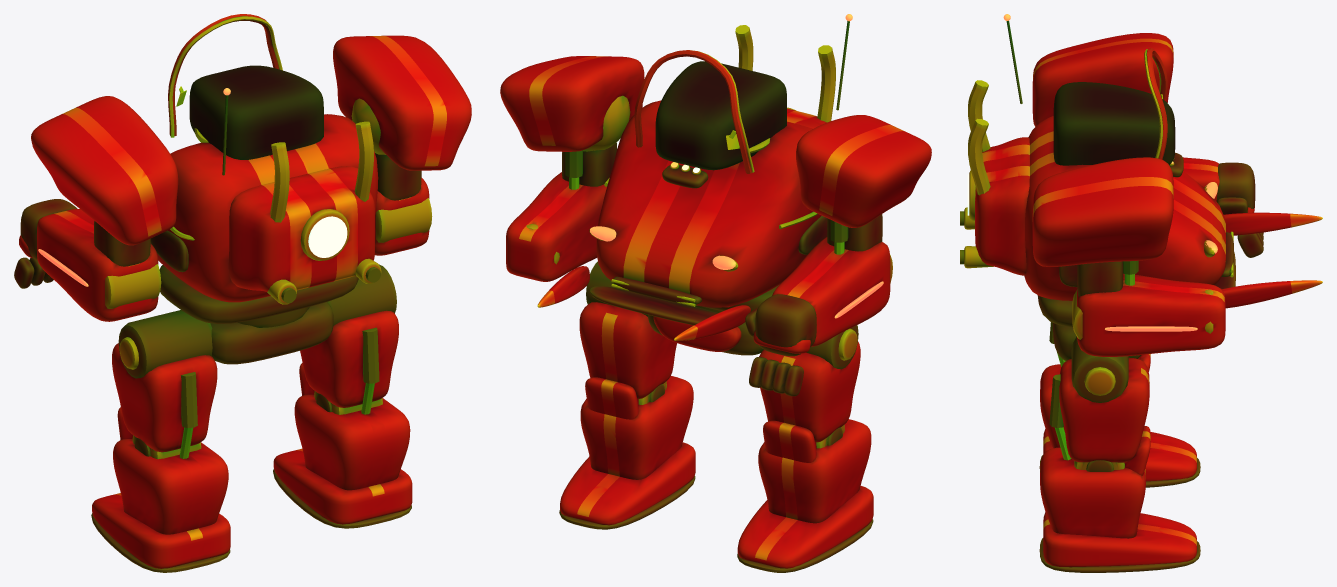
Rendered from titan_enemy.glb.
The picture shows the model from 3 angles, left to right: view 1: azimuth 30°, elevation 25°; view 2: azimuth 150°, elevation 25°; view 3: azimuth 270°, elevation 25°; orthographic projection. The views are drawn at different scales.
Visible parts, largest first — view 1: LegLMesh, ArmLMesh, LegRMesh, ArmRMesh, Torso, Engine, Canopy, Pelvis, Cockpit, Core; view 2: Torso, ArmLMesh, LegRMesh, LegLMesh, ArmRMesh, Canopy, Cockpit, Engine, Pelvis, Eye; view 3: ArmRMesh, LegRMesh, Torso, ArmLMesh, Engine, Canopy, LegLMesh, Cockpit, Pelvis.
Part boxes in pixels (x1,y1,x2,y2): LegLMesh: [91, 310, 230, 572]; ArmLMesh: [14, 96, 178, 321]; LegRMesh: [273, 264, 412, 528]; ArmRMesh: [333, 35, 471, 255]; Torso: [150, 114, 378, 323]; Engine: [222, 88, 381, 304]; Canopy: [189, 65, 323, 159]; Pelvis: [210, 302, 333, 364]; Cockpit: [168, 14, 282, 137]; Core: [308, 216, 347, 257]; Torso: [537, 100, 827, 340]; ArmLMesh: [745, 115, 931, 396]; LegRMesh: [559, 261, 695, 529]; LegLMesh: [737, 325, 873, 572]; ArmRMesh: [500, 56, 644, 281]; Canopy: [655, 61, 786, 170]; Cockpit: [634, 50, 754, 188]; Engine: [735, 14, 852, 128]; Pelvis: [648, 305, 763, 355]; Eye: [590, 226, 735, 269]; ArmRMesh: [1032, 157, 1225, 356]; LegRMesh: [1039, 336, 1200, 572]; Torso: [1024, 116, 1322, 327]; ArmLMesh: [1032, 33, 1263, 257]; Engine: [960, 14, 1029, 275]; Canopy: [1053, 82, 1175, 165]; LegLMesh: [1039, 322, 1200, 487]; Cockpit: [1144, 48, 1183, 177]; Pelvis: [1053, 323, 1141, 360].
Size of the model in its own units: 5.96 by 7.14 by 5.08.
